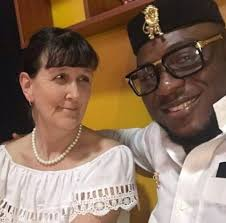white_female: (31, 46, 110, 129)
